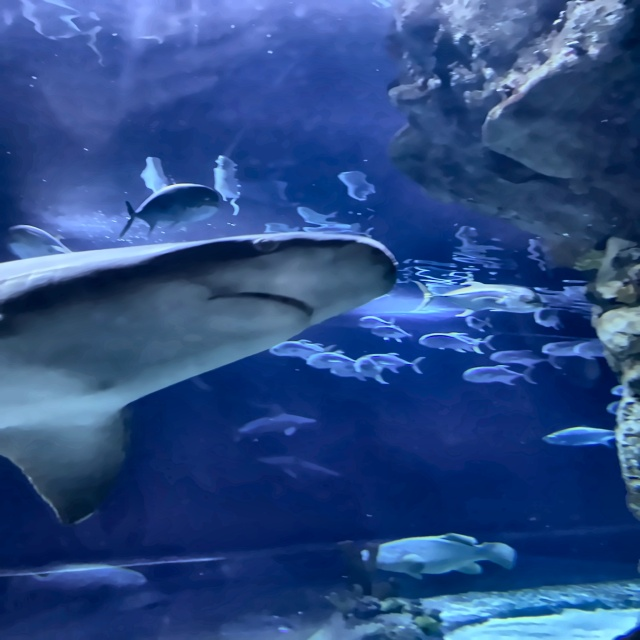fish: (360, 533, 513, 582), (13, 563, 148, 607), (118, 180, 218, 239), (412, 280, 544, 318), (2, 223, 71, 260), (542, 427, 615, 451), (462, 366, 538, 386), (490, 350, 563, 370), (361, 353, 425, 375), (420, 333, 484, 353), (268, 340, 337, 356), (355, 357, 390, 385), (305, 351, 354, 370), (451, 333, 495, 351), (370, 325, 414, 343), (535, 308, 564, 330), (573, 341, 606, 358), (541, 341, 578, 356), (357, 316, 395, 330), (465, 316, 492, 332)
shark: (0, 227, 395, 527), (232, 404, 320, 443), (253, 453, 342, 481)
